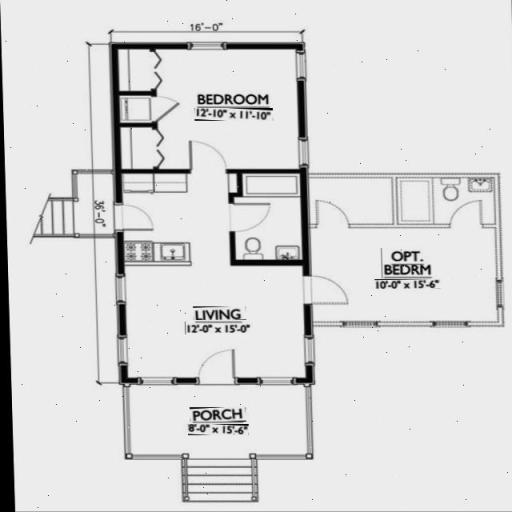bedroom: (315, 176, 502, 321), (120, 49, 306, 177)
hall: (128, 185, 315, 392)
porch: (129, 402, 315, 458)
